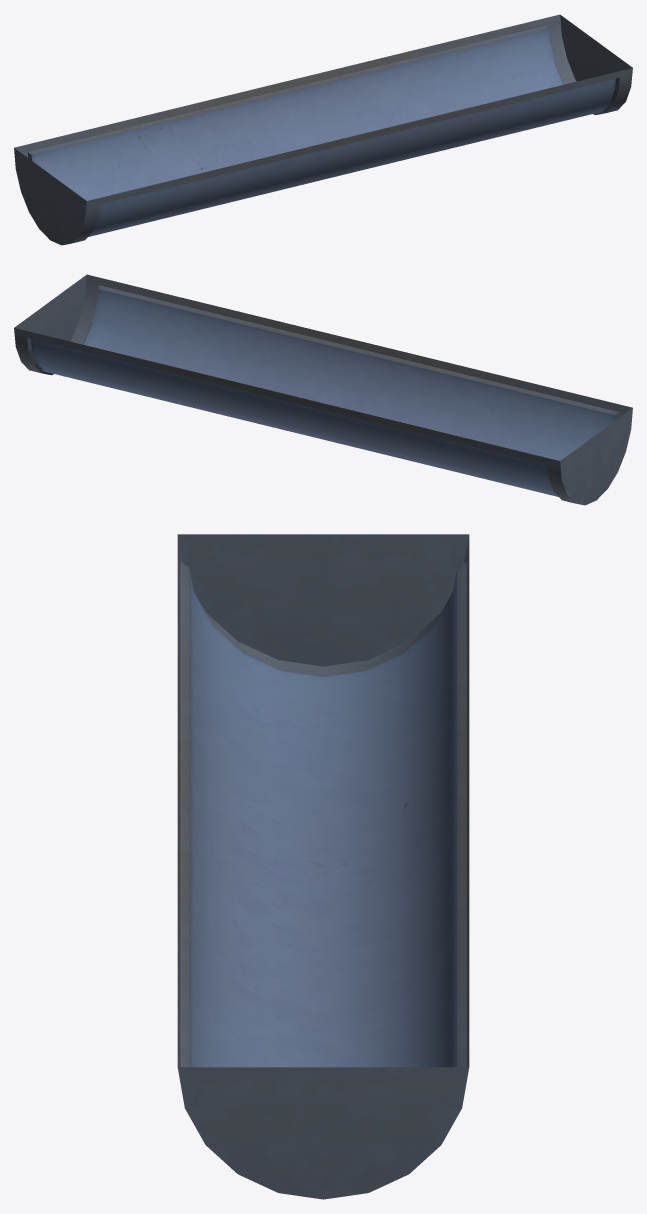
The model's file is ElevatorLobbyLight.fbx.
3 views of the same model, one above another, from view 1: azimuth 30°, elevation 25°; view 2: azimuth 150°, elevation 25°; view 3: azimuth 270°, elevation 25° (orthographic). The views are drawn at different scales.
Parts seen in each view (by area): view 1: pCylinder7; view 2: pCylinder7; view 3: pCylinder7.
Part boxes in pixels (x1,y1,x2,y2): pCylinder7: [14, 14, 632, 245]; pCylinder7: [14, 274, 632, 505]; pCylinder7: [177, 534, 469, 1199].
Size of the model in its own units: 208 by 24 by 48.
1 material, 1 textured.
